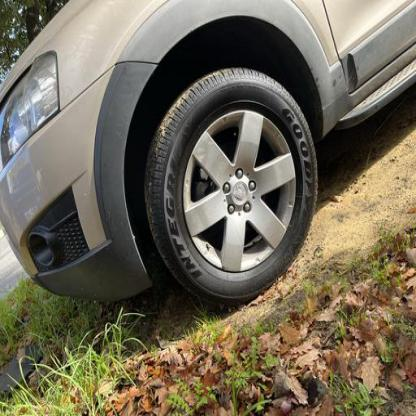Tire: (143, 67, 318, 304)
